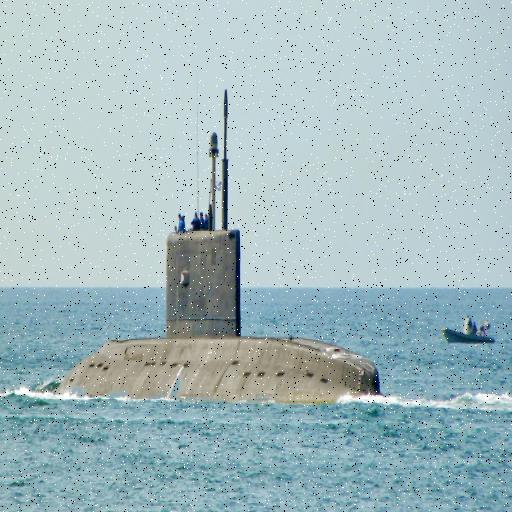submarine: (54, 93, 383, 404)
